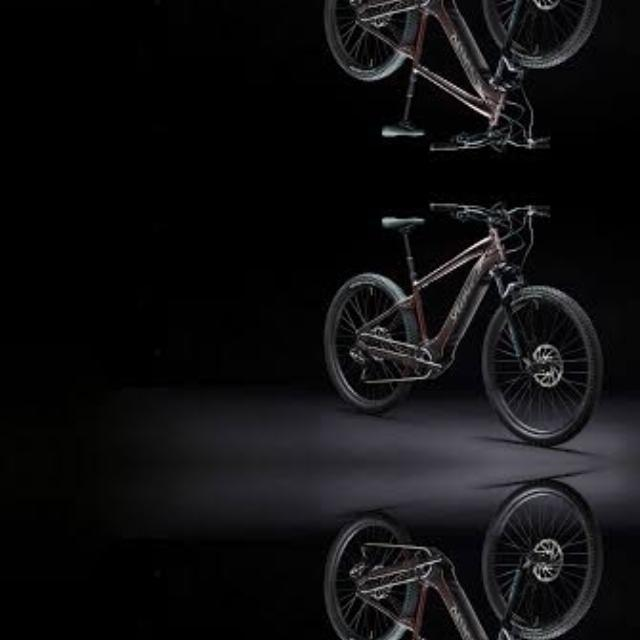obstacle: (312, 189, 620, 445), (311, 0, 620, 163), (311, 480, 620, 640)
